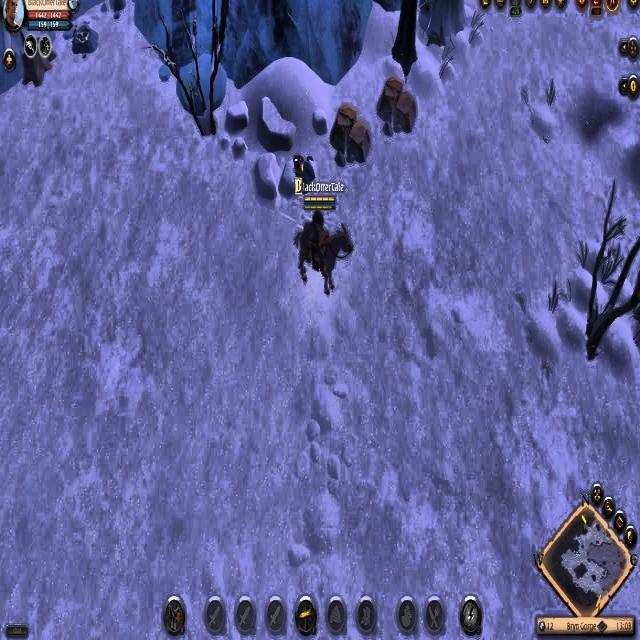copperore: (287, 150, 318, 194)
limestone: (326, 100, 371, 167), (373, 75, 418, 142)
